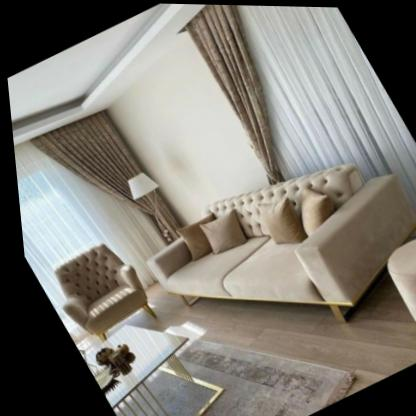Curtains: (34, 111, 177, 245), (184, 4, 284, 184)
Wooden floor: (123, 271, 416, 393)
